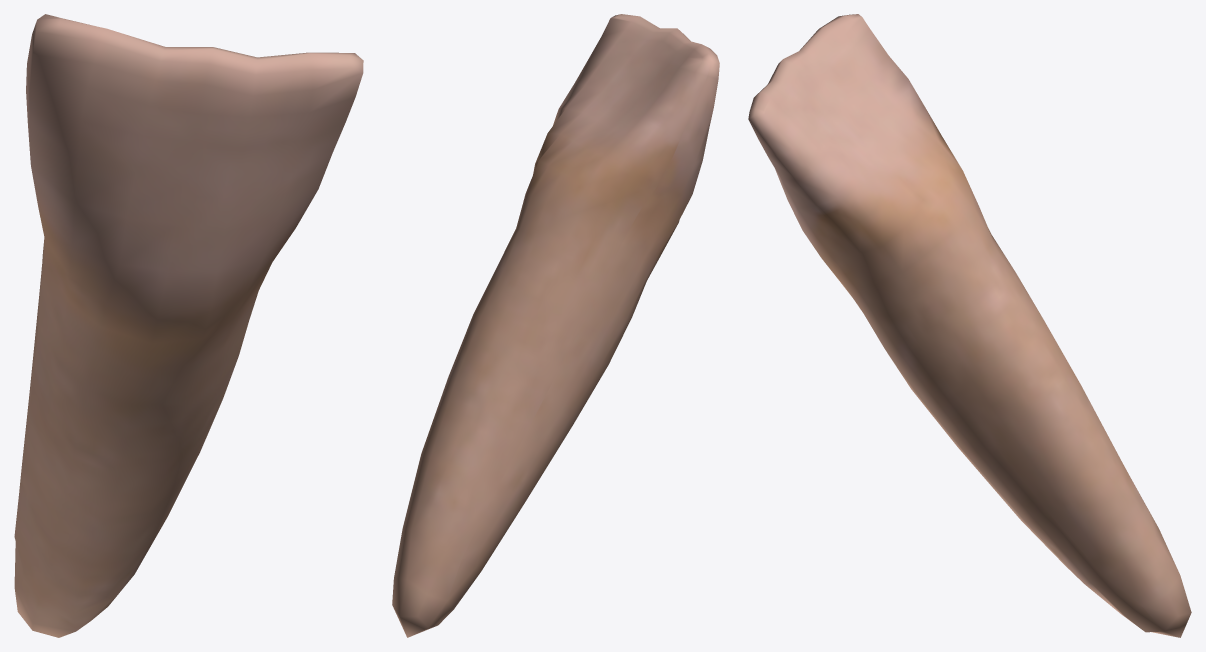
3 renders of one model, left to right at view 1: azimuth 30°, elevation 25°; view 2: azimuth 150°, elevation 25°; view 3: azimuth 270°, elevation 25°, orthographic. The views are drawn at different scales.
Parts seen in each view (by area): view 1: t_42; view 2: t_42; view 3: t_42.
Part boxes in pixels (x1,y1,x2,y2): t_42: (14,14,363,637); t_42: (392,14,719,637); t_42: (748,14,1191,637).
Size of the model in its own units: 0.0663 by 0.1724 by 0.1269.
Materials: 1 (1 with a texture image).
